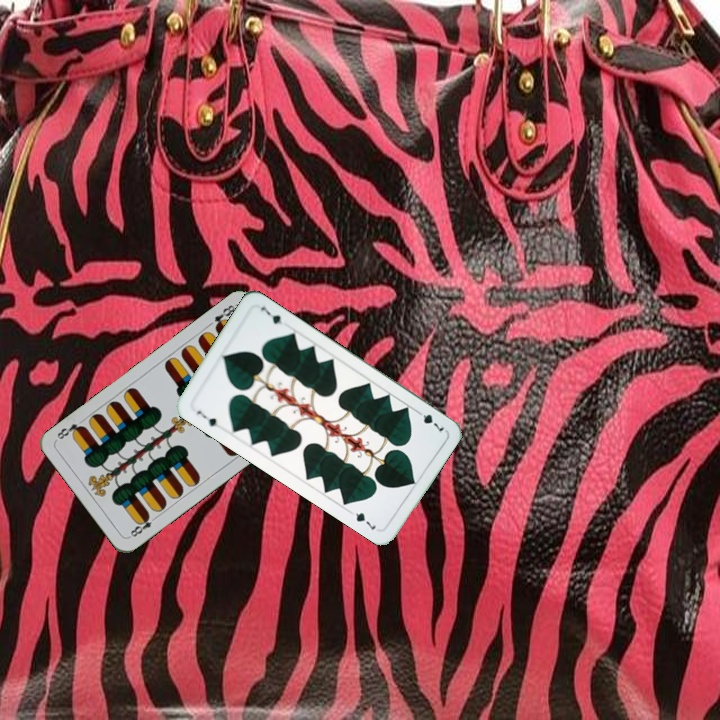E8: (125, 510, 161, 540), (210, 300, 238, 333)
G7: (412, 406, 447, 434), (193, 406, 220, 429)
